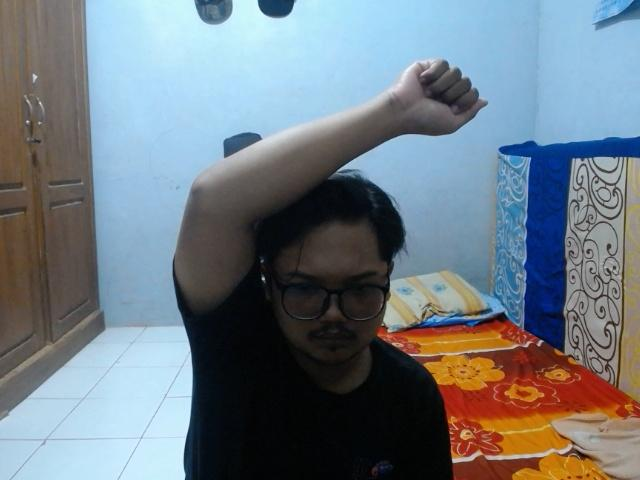Grab: (383, 51, 493, 138)
